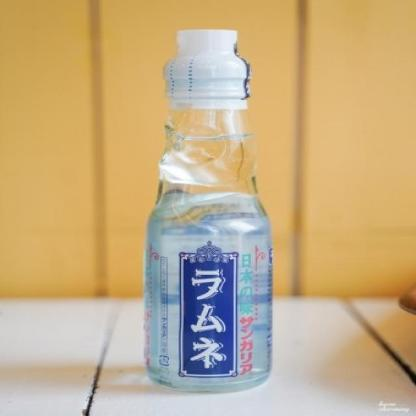Glass Bottle: (144, 30, 274, 392)
